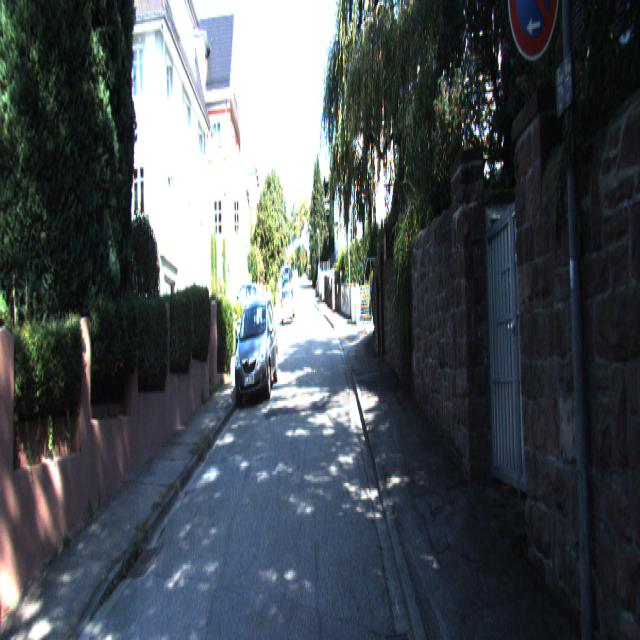Car: (232, 306, 279, 411), (281, 285, 294, 324)
